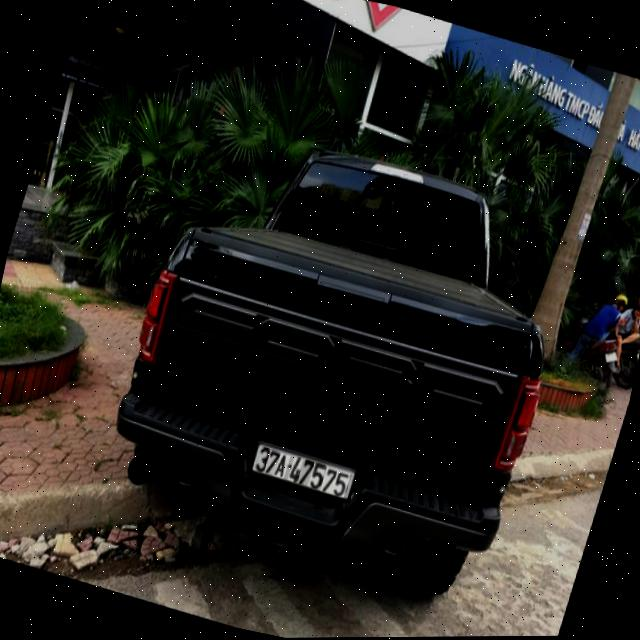car: (89, 113, 584, 601)
motorcycle: (579, 322, 640, 395)
plate: (242, 433, 363, 507)
